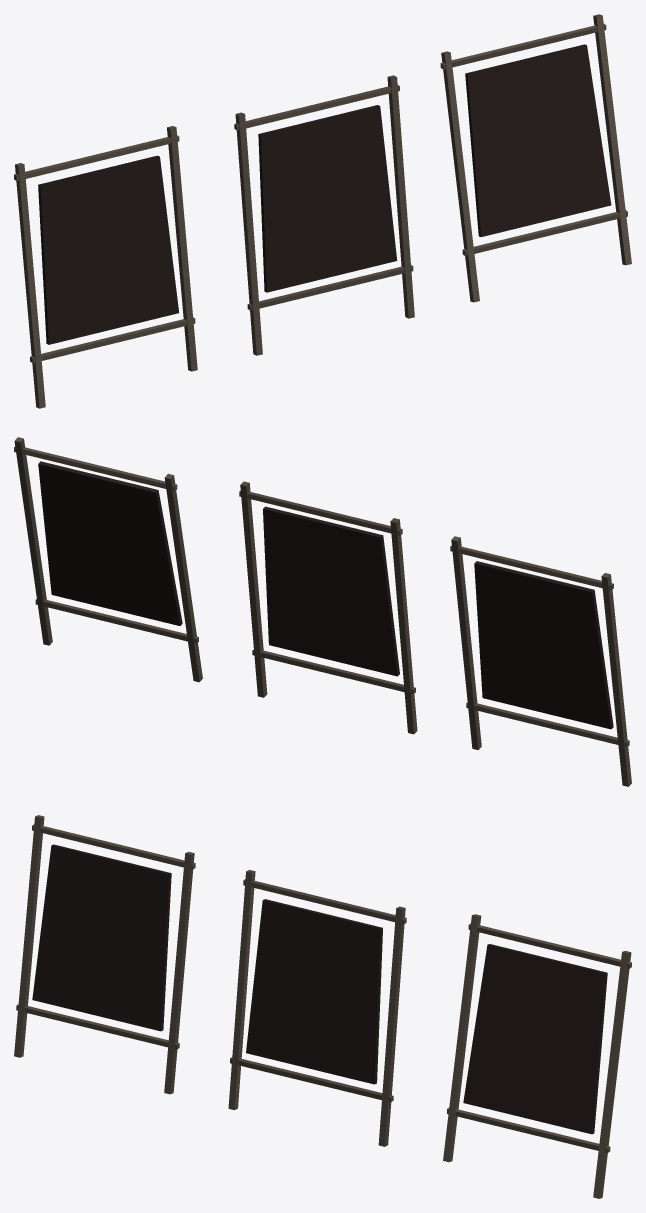
The model's file is walk_prop_pelt_frame.glb.
The picture shows the model from 3 angles, top to bottom: view 1: azimuth 30°, elevation 25°; view 2: azimuth 150°, elevation 25°; view 3: azimuth 330°, elevation 25°; orthographic projection.
Visible parts, largest first — view 1: walk_prop_pelt_frame; view 2: walk_prop_pelt_frame; view 3: walk_prop_pelt_frame.
Part boxes in pixels (bbox=[...]): walk_prop_pelt_frame: bbox=[14, 14, 631, 408]; walk_prop_pelt_frame: bbox=[14, 437, 631, 786]; walk_prop_pelt_frame: bbox=[14, 815, 631, 1198].
Size of what is drawn, in the model's own units: 5.5 by 2.01 by 0.5222.
Materials: 1 (1 with a texture image).
